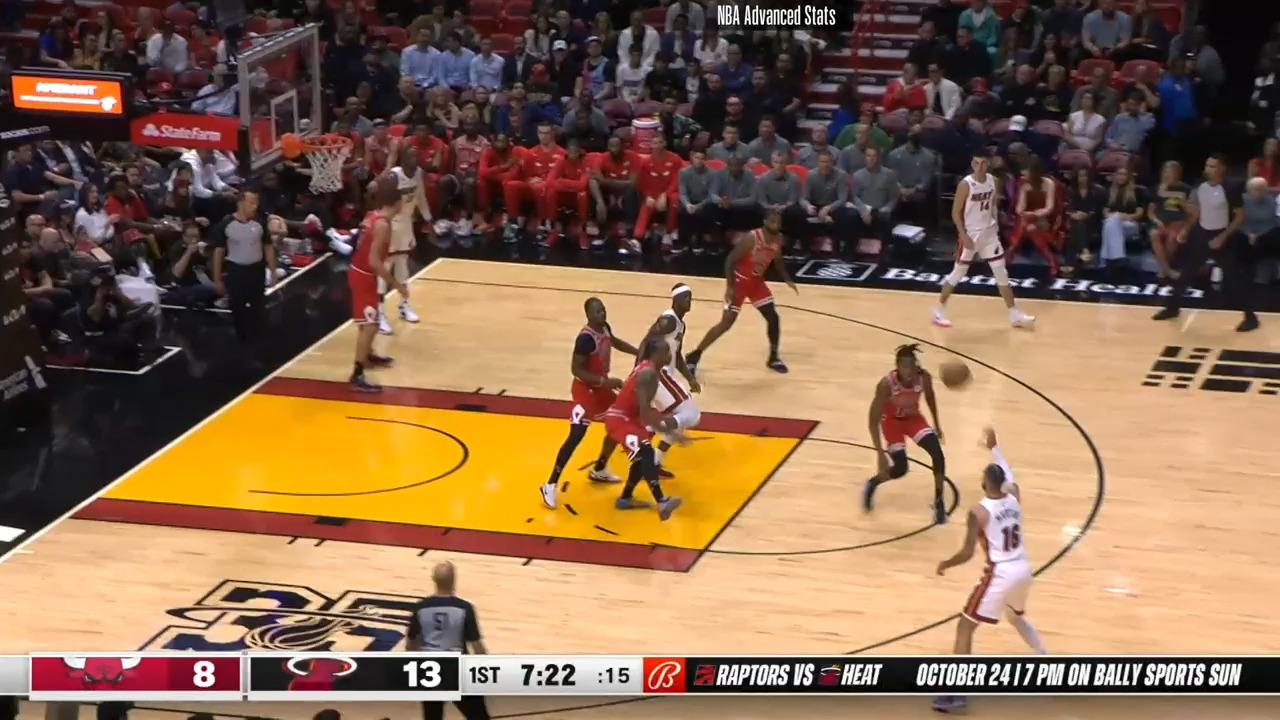net: (278, 126, 361, 197)
player: (935, 460, 1054, 653), (540, 296, 646, 512), (862, 340, 968, 526), (929, 150, 1033, 333), (684, 208, 794, 378), (609, 332, 703, 523), (333, 191, 399, 400), (638, 280, 703, 482), (372, 145, 432, 332)
referee: (1152, 152, 1260, 330), (384, 562, 493, 658), (216, 187, 281, 339)
